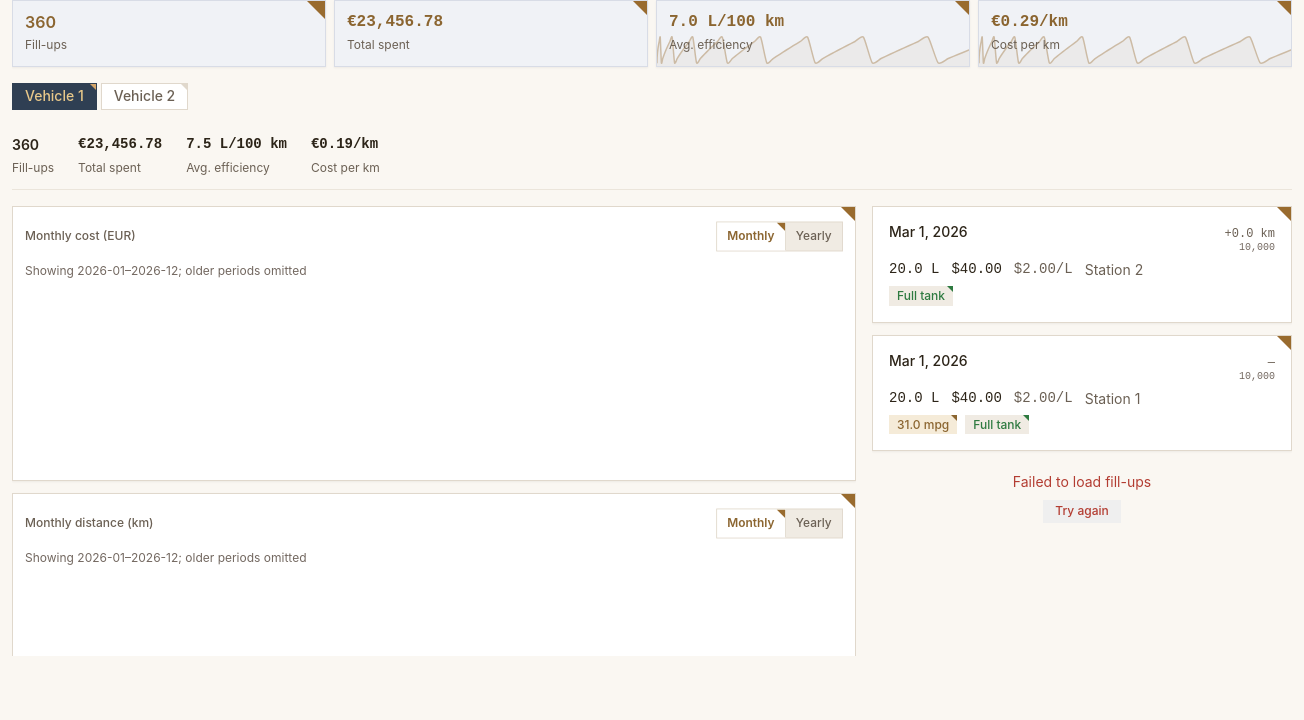
Test: dashboard independent endless list › retries continuation failures without refreshing statistics
This screenshot has width=1304, height=720.
Click the button "Try again": (1082, 511) [1043, 500, 1121, 523]
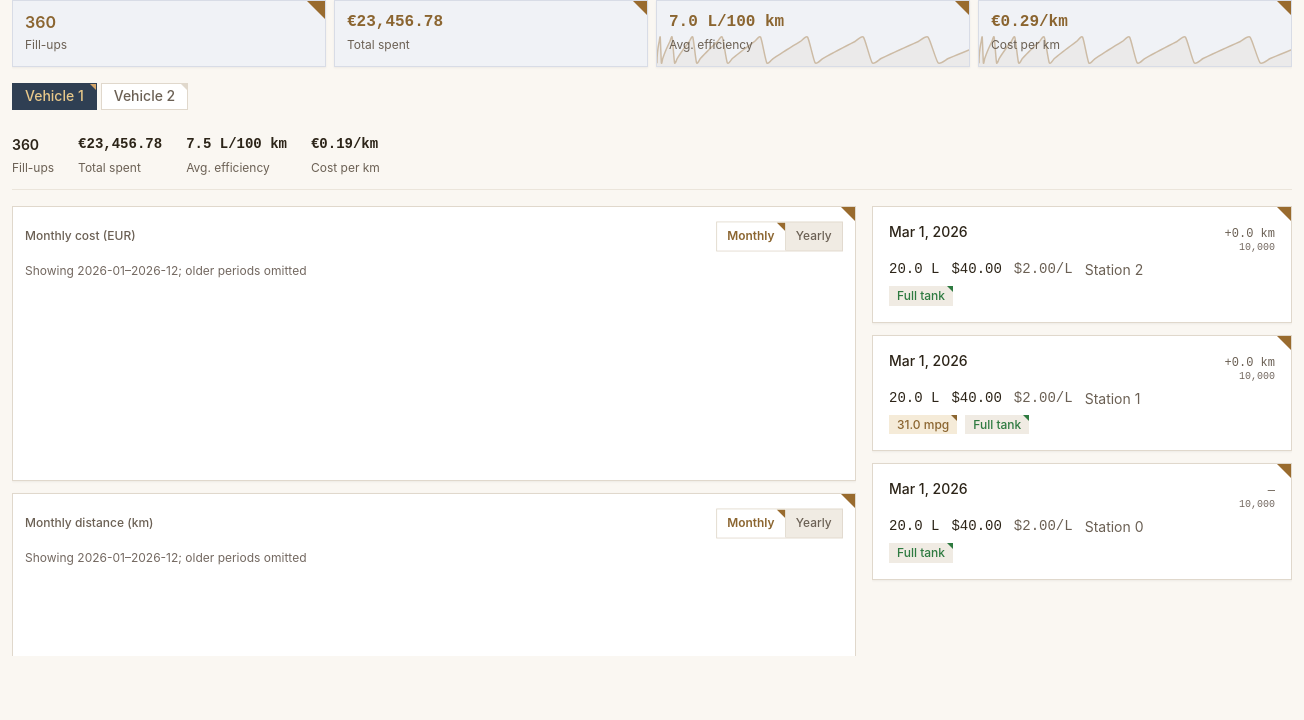
Now the number of buttons with class "fillup-card" is 3, box [872, 206, 1292, 323]; [872, 335, 1292, 451]; [872, 463, 1292, 580]
